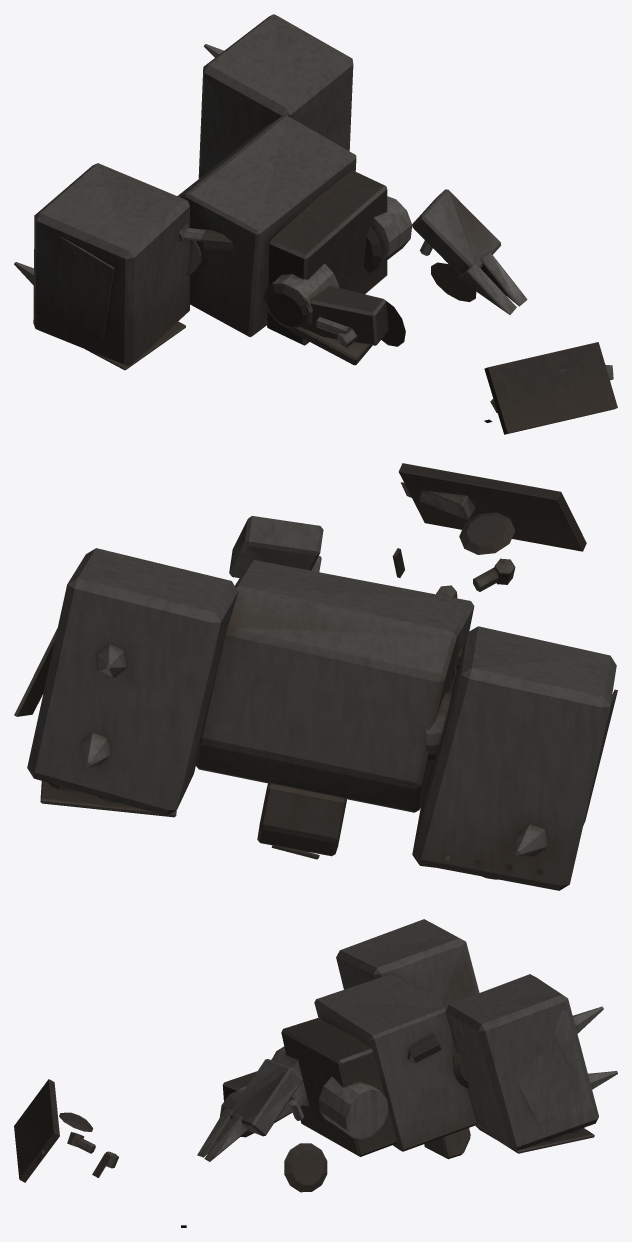
File: chs_pandemonium_wreck.fbx
3 renders of one model, top to bottom at view 1: azimuth 30°, elevation 25°; view 2: azimuth 150°, elevation 25°; view 3: azimuth 270°, elevation 25°, orthographic. The views are drawn at different scales.
Visible parts, largest first — view 1: torso_bar, base_bar, footL_bar, thighL_bar, footR_bar, thighR_bar; view 2: torso_bar, footL_bar, footR_bar, shinL_bar; view 3: torso_bar, base_bar, thighR_bar, footR_bar, footL_bar, thighL_bar, shinL_bar.
Part boxes in pixels (left/top/right/bottom): torso_bar: left=14, top=14, right=356, bottom=370; base_bar: left=267, top=170, right=387, bottom=345; footL_bar: left=484, top=342, right=617, bottom=434; thighL_bar: left=263, top=263, right=405, bottom=365; footR_bar: left=412, top=189, right=527, bottom=314; thighR_bar: left=364, top=196, right=476, bottom=301; torso_bar: left=14, top=548, right=617, bottom=890; footL_bar: left=398, top=463, right=586, bottom=551; footR_bar: left=229, top=516, right=323, bottom=577; shinL_bar: left=392, top=512, right=515, bottom=598; torso_bar: left=314, top=919, right=617, bottom=1159; base_bar: left=281, top=1018, right=396, bottom=1156; thighR_bar: left=284, top=1076, right=388, bottom=1192; footR_bar: left=197, top=1059, right=302, bottom=1161; footL_bar: left=14, top=1079, right=59, bottom=1182; thighL_bar: left=219, top=1046, right=309, bottom=1137; shinL_bar: left=59, top=1112, right=118, bottom=1177.
Size of the model in its own units: 1342 by 877 by 2090.
Materials: 2 (2 with a texture image).
